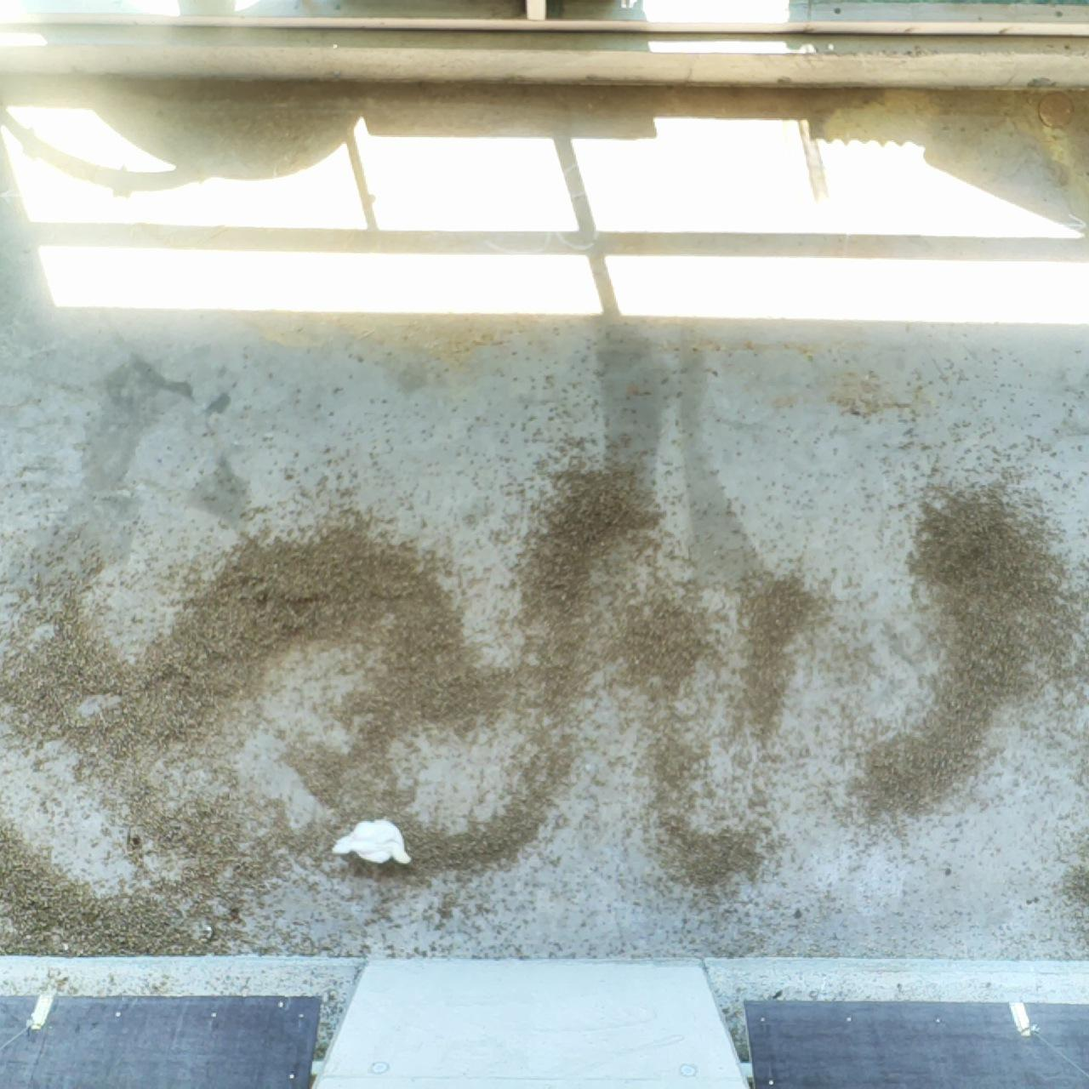chicken: (332, 814, 413, 865)
